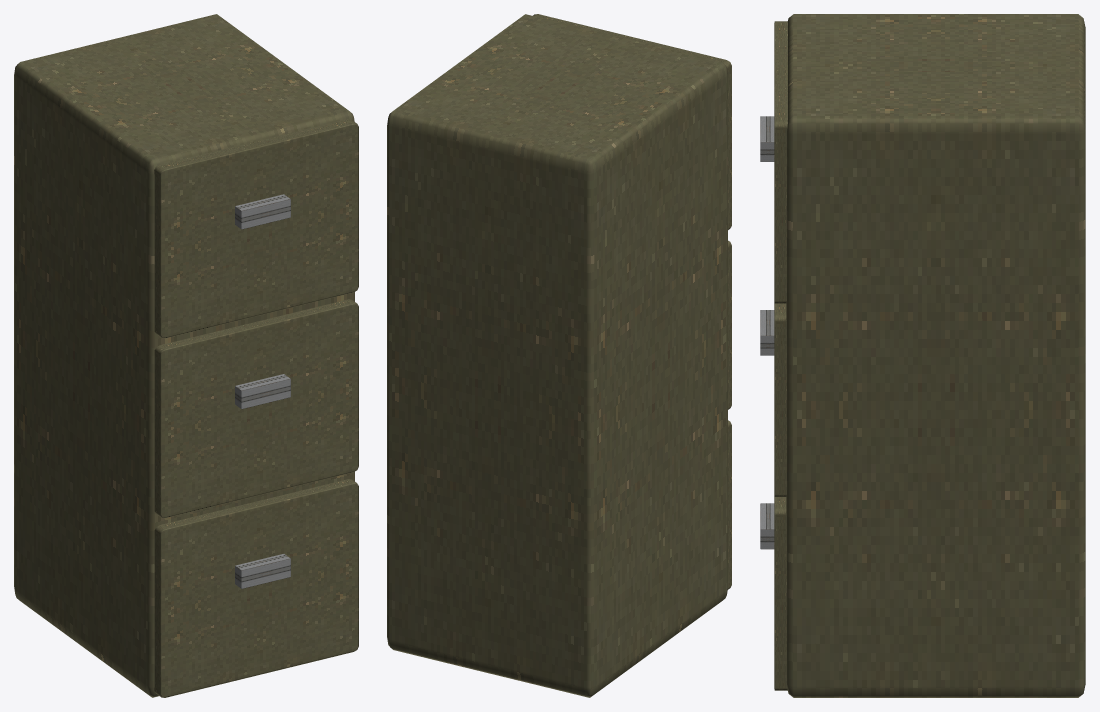
The model's file is files.glb.
3 renders of one model, left to right at view 1: azimuth 30°, elevation 25°; view 2: azimuth 150°, elevation 25°; view 3: azimuth 270°, elevation 25°, orthographic. The views are drawn at different scales.
Visible parts, largest first — view 1: case, front (×3), pull (×3); view 2: case, front (×3); view 3: case, front (×3), pull (×3).
Part boxes in pixels (box(x1,y1,x2,y2)): case: box(14, 14, 354, 697); front (×3): box(154, 119, 358, 697); pull (×3): box(235, 194, 290, 588); case: box(387, 14, 727, 697); front (×3): box(533, 14, 731, 589); case: box(786, 14, 1085, 697); front (×3): box(774, 21, 787, 690); pull (×3): box(760, 116, 774, 549).
Size of the model in its own units: 0.49 by 1.22 by 0.62.
2 materials, 2 textured.
